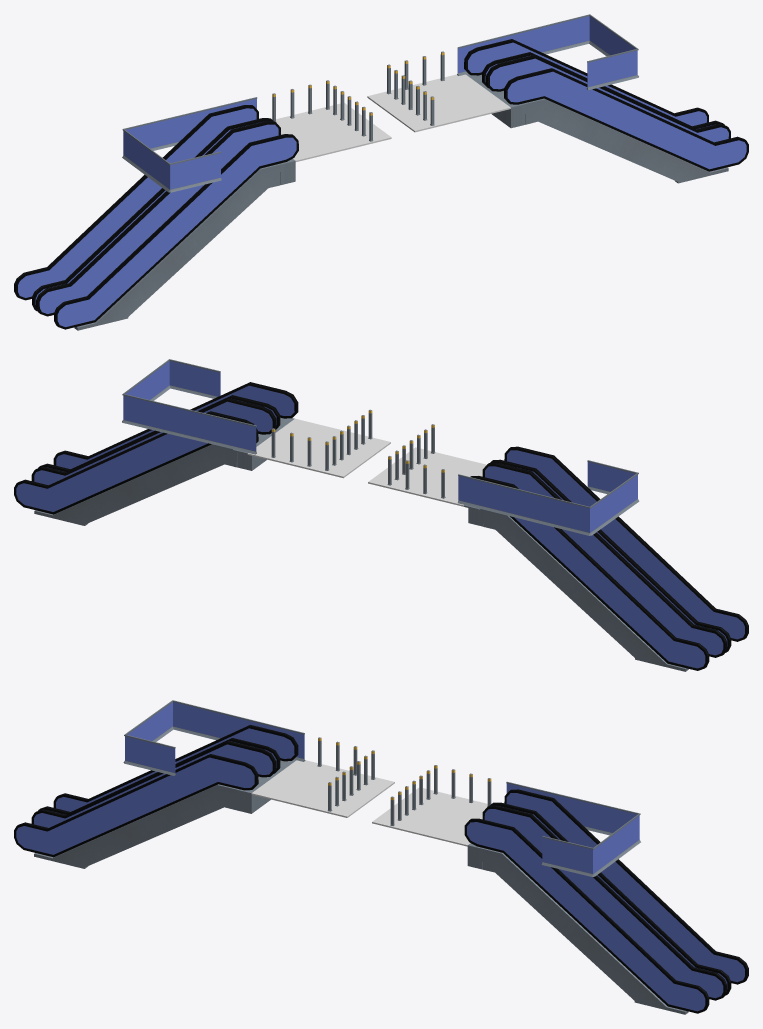
Rendered from Esca.fbx.
The picture shows the model from 3 angles, top to bottom: view 1: azimuth 30°, elevation 25°; view 2: azimuth 150°, elevation 25°; view 3: azimuth 330°, elevation 25°; orthographic projection.
Visible parts, largest first — view 1: Cube.013, Cube.014; view 2: Cube.013, Cube.014; view 3: Cube.014, Cube.013.
Boxes of the visible parts, box(x1,y1,x2,y2) form: Cube.013: box(14, 80, 391, 330); Cube.014: box(367, 14, 748, 183); Cube.013: box(368, 424, 748, 671); Cube.014: box(14, 359, 390, 525); Cube.014: box(372, 765, 748, 1014); Cube.013: box(14, 700, 394, 868).
Size of the model in its own units: 3181 by 637 by 397.
